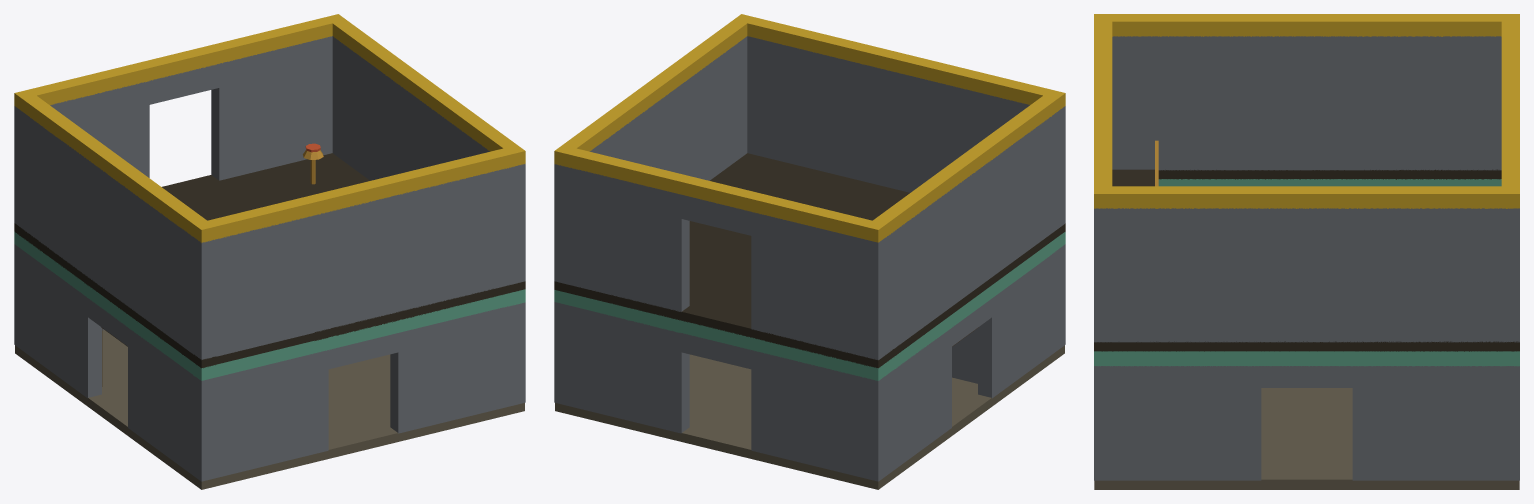
File: MedievalStairUp.fbx
3 renders of one model, left to right at view 1: azimuth 30°, elevation 25°; view 2: azimuth 150°, elevation 25°; view 3: azimuth 270°, elevation 25°, orthographic. The views are drawn at different scales.
Visible parts, largest first — view 1: MedievalStairUp; view 2: MedievalStairUp; view 3: MedievalStairUp.
Part boxes in pixels (box(x1,y1,x2,y2)): MedievalStairUp: box(14, 14, 525, 489); MedievalStairUp: box(554, 14, 1065, 489); MedievalStairUp: box(1094, 14, 1519, 489).
Bounding box in the file's own units: 1202 × 922 × 1202.
Materials: 8 (8 with a texture image).
